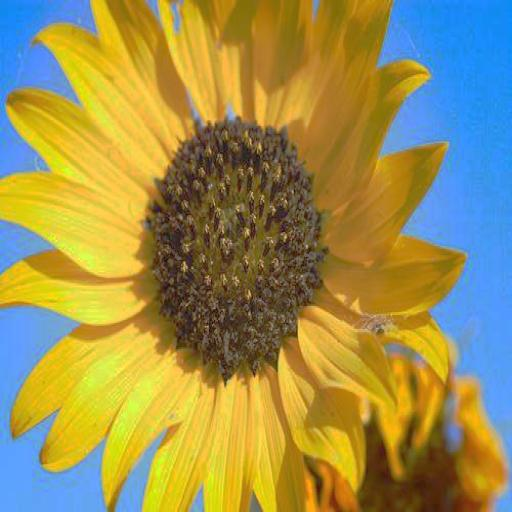sunflower: (0, 0, 467, 512)
